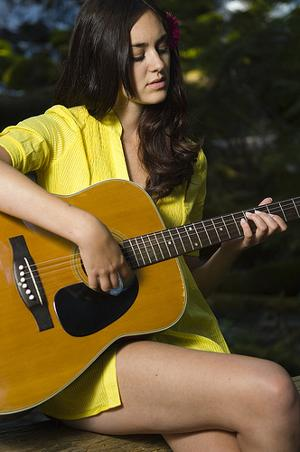person: (2, 4, 300, 452)
